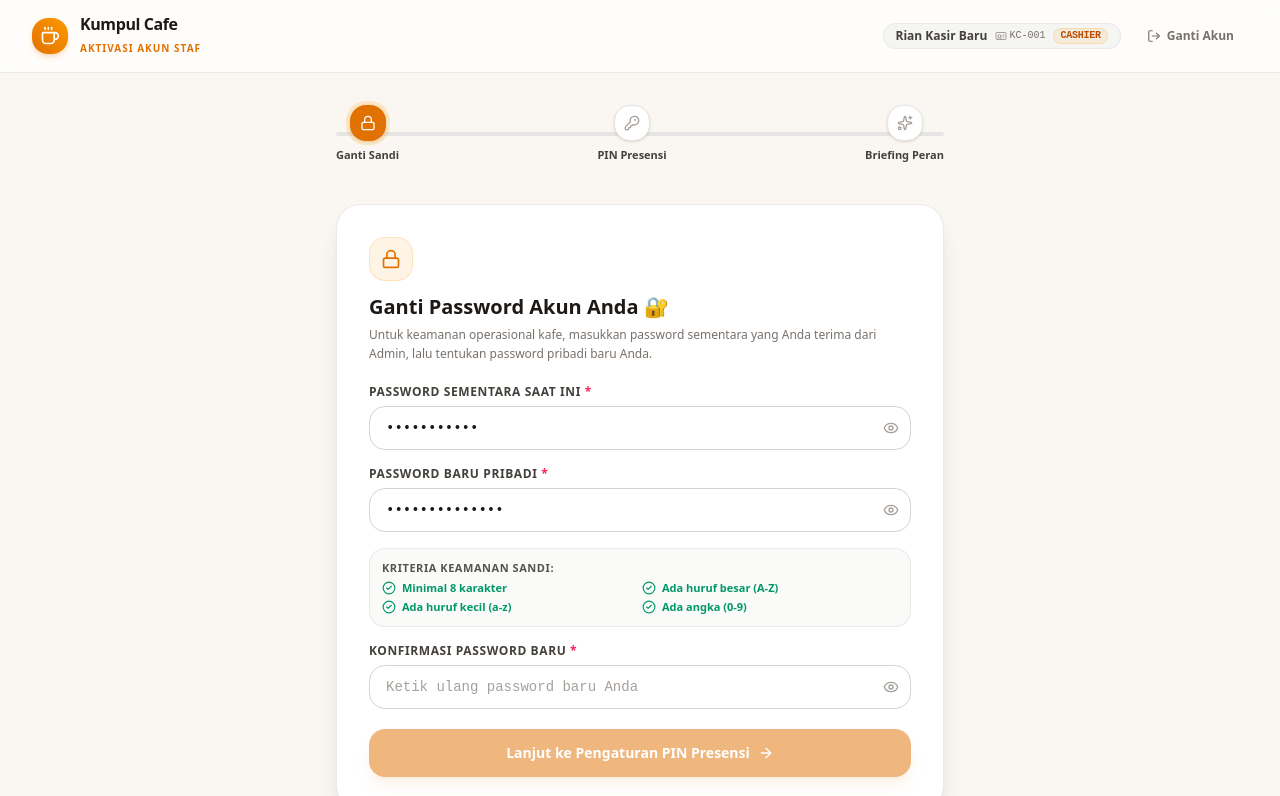
Test: OnboardingPage Flow › validates PIN security rules (rejects 1111 and 1234) on Step 2
This screenshot has width=1280, height=796.
Earlier steps of the test are not shown.
Later steps or results of the test are not shown.
Step 1. Type "RahasiaKopi123" into the password field with placeholder "Ketik ulang password baru Anda" → (640, 688), box [369,666,911,710]
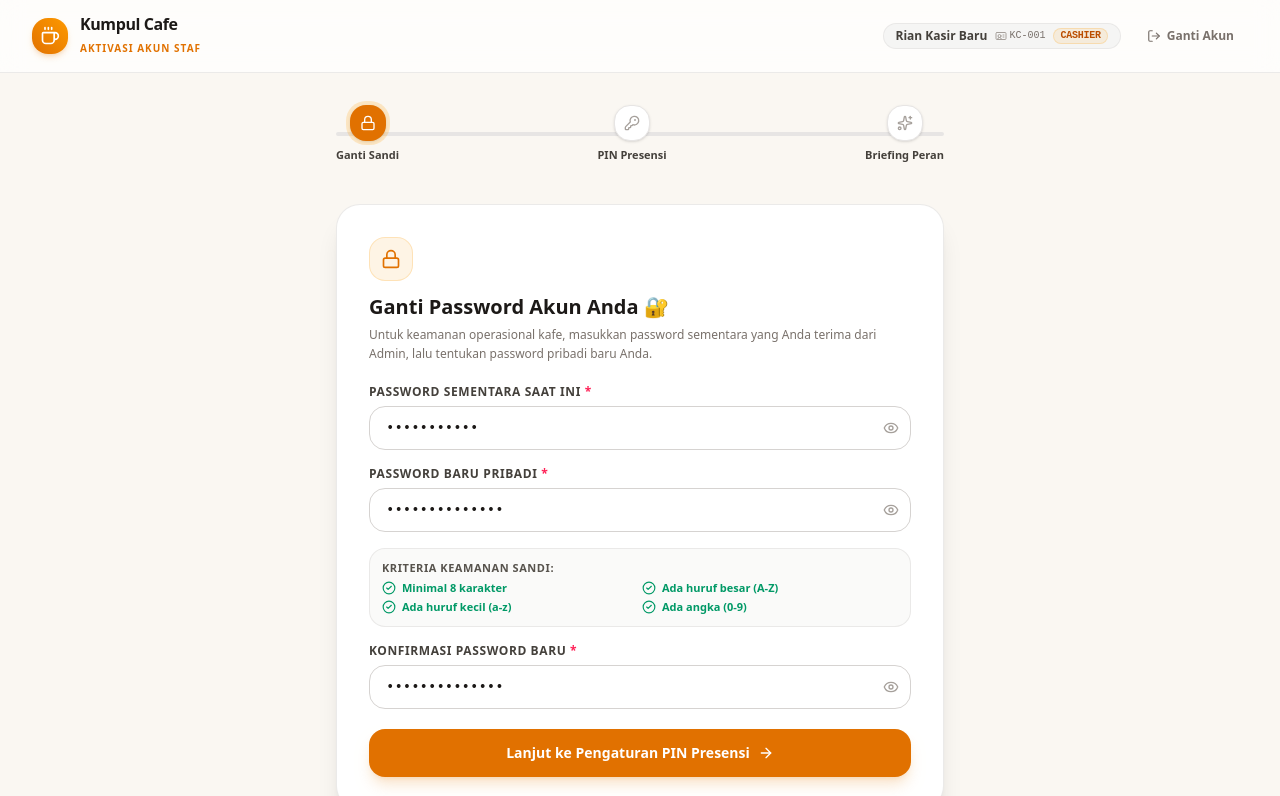
Step 2. Click the button "Lanjut ke Pengaturan PIN Presensi" → (640, 754), box [369,730,911,778]
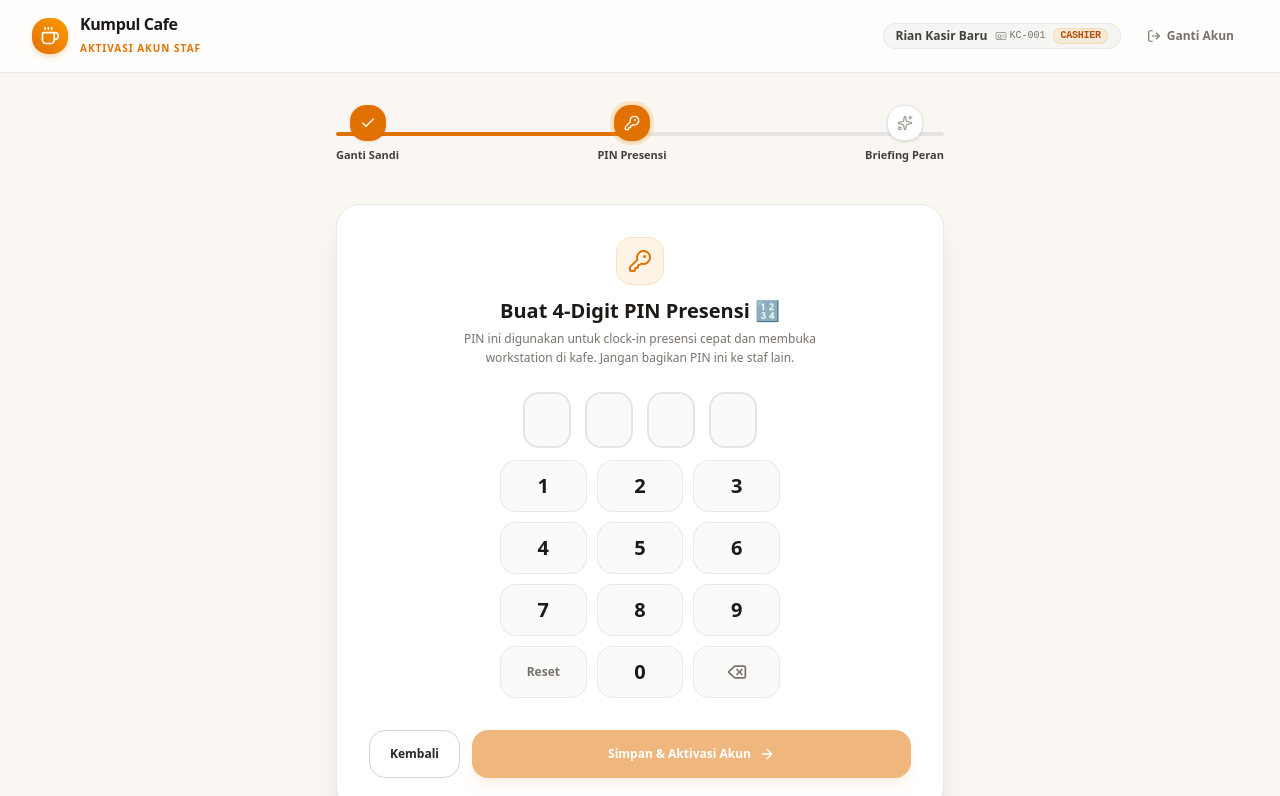
Result: the heading "Buat 4-Digit PIN Presensi 🔢" is shown at [500,296,780,324]
Step 3. Click the button "1" → (543, 486), box [500,460,587,512]
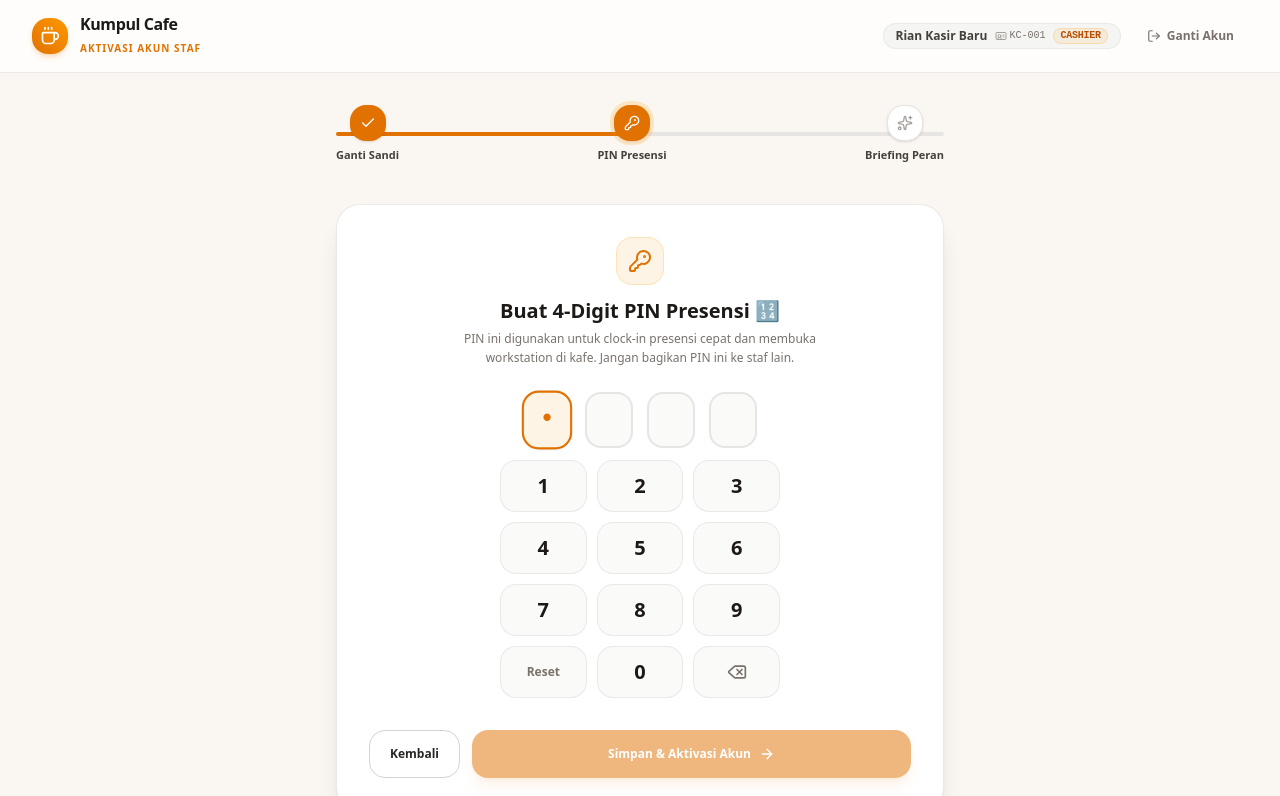
Step 4. Click the button "1" → (543, 486), box [500,460,587,512]
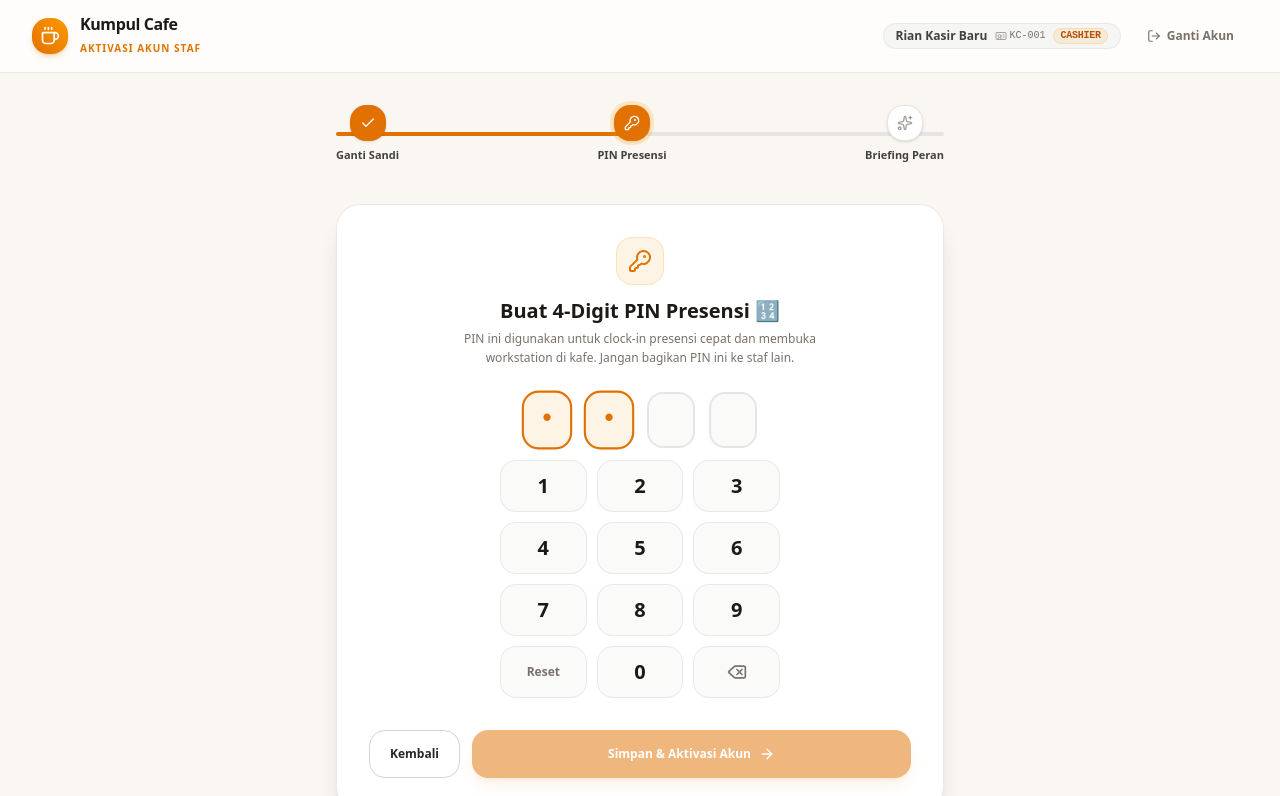
Step 5. Click the button "1" → (543, 486), box [500,460,587,512]
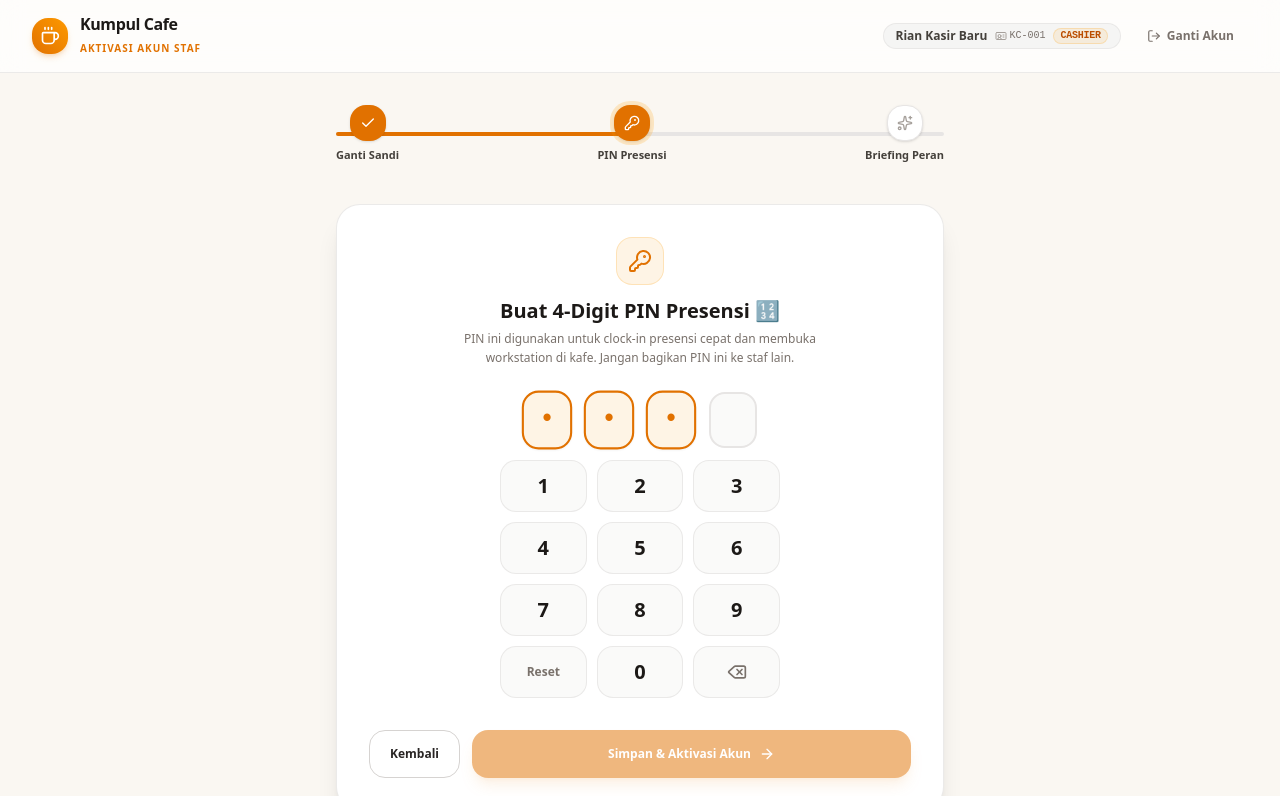
Step 6. Click the button "1" → (543, 486), box [500,460,587,512]
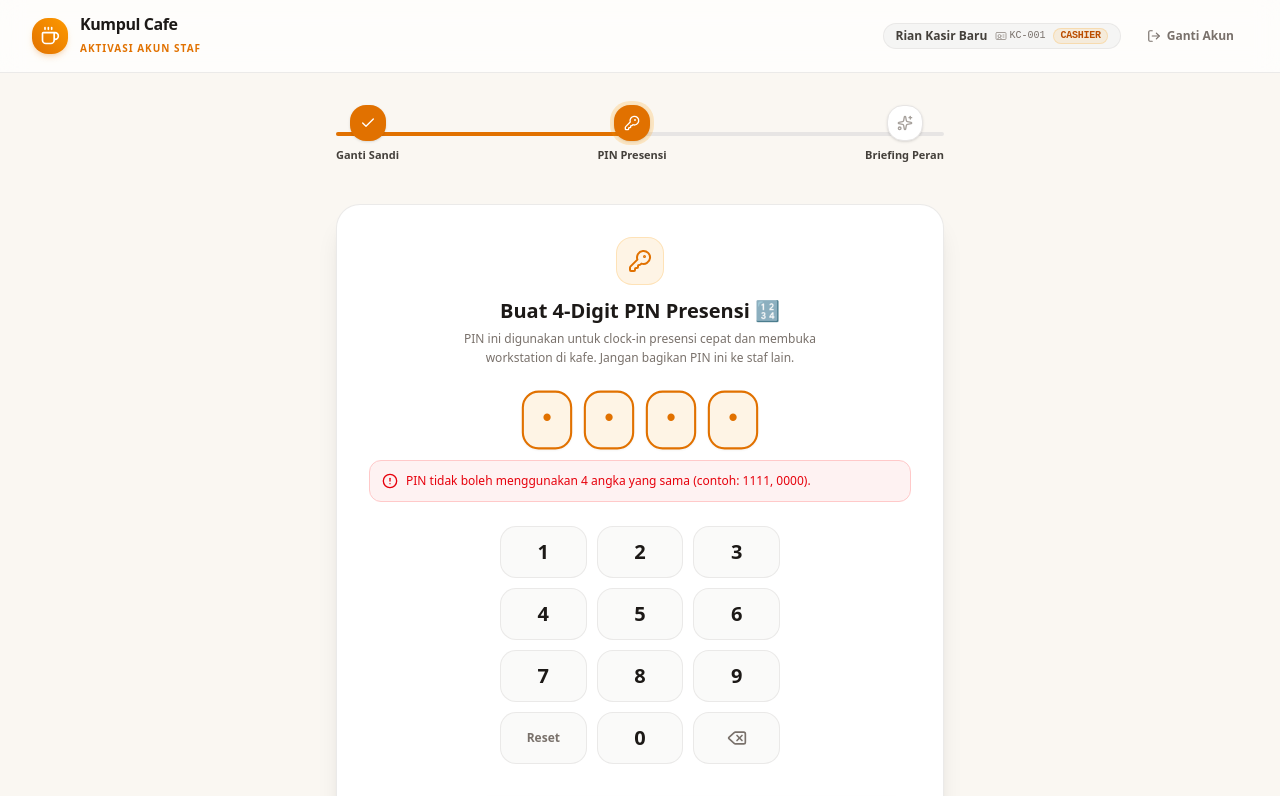
Result: the text "PIN tidak boleh menggunakan 4 angka yang sama" is shown at [406,472,811,488]
